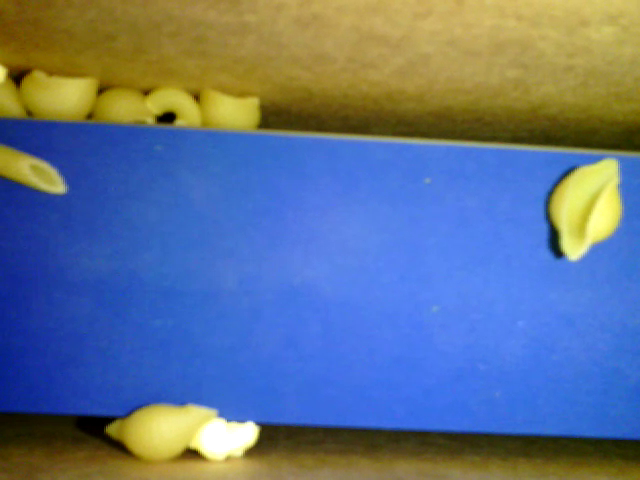elbow: (147, 86, 200, 127)
penne: (1, 146, 69, 195)
shell: (546, 158, 621, 260), (105, 402, 216, 459), (17, 68, 100, 122), (195, 83, 260, 132), (91, 84, 157, 124)
